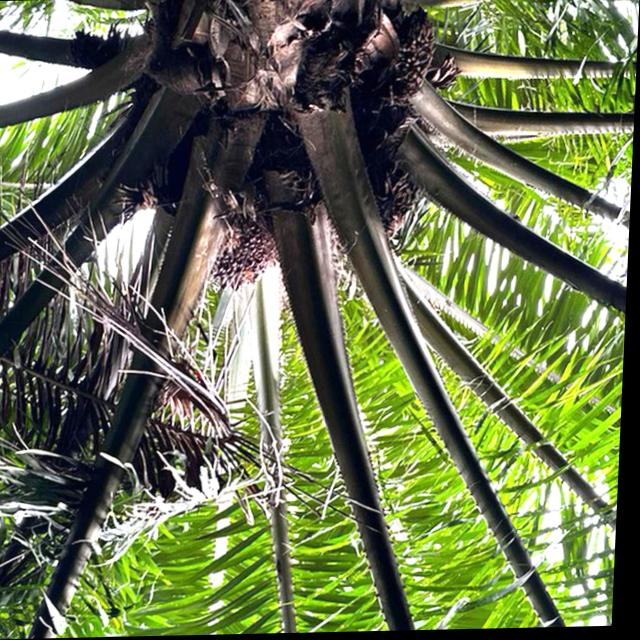ripe: (213, 212, 288, 298)
